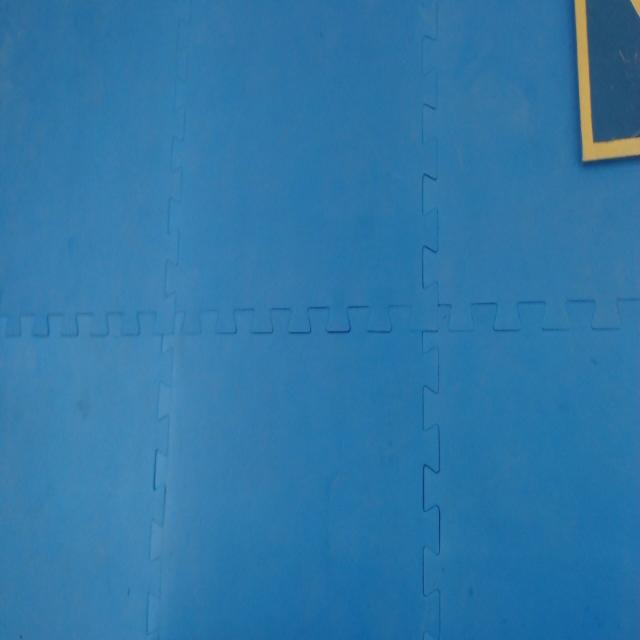base_pouso: (571, 0, 640, 164)
